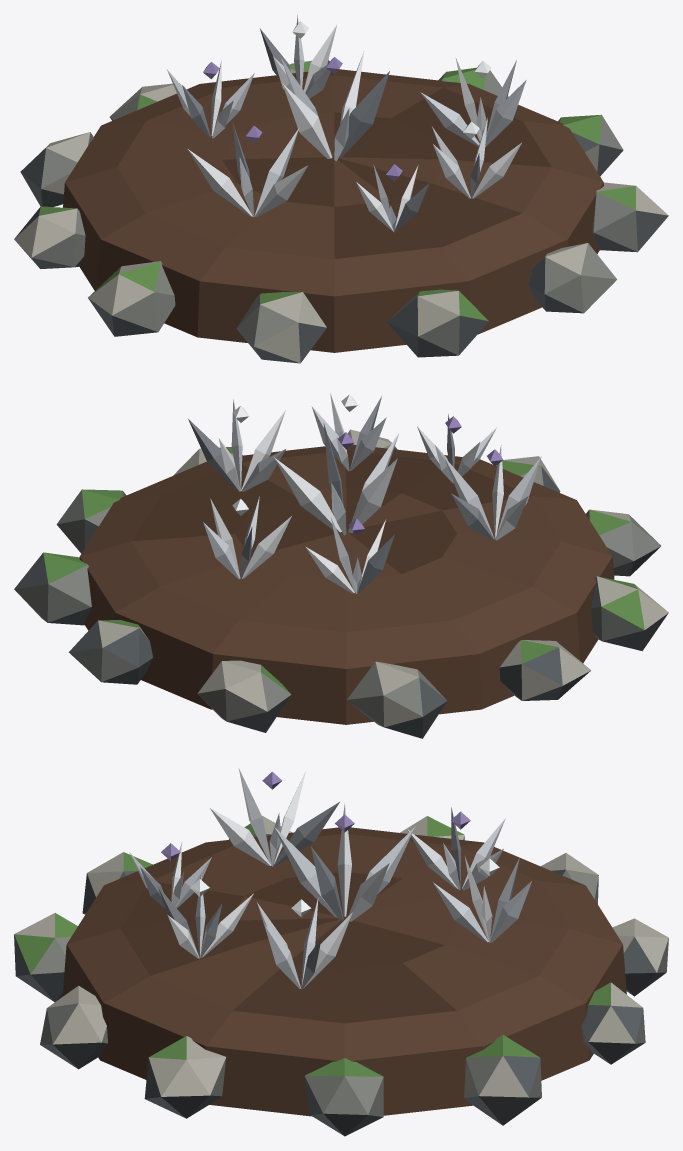
Rendered from CropBed.obj.
The picture shows the model from 3 angles, top to bottom: view 1: azimuth 30°, elevation 25°; view 2: azimuth 150°, elevation 25°; view 3: azimuth 270°, elevation 25°; orthographic projection. The views are drawn at different scales.
Size of the model in its own units: 4.58 by 1.48 by 4.52.
